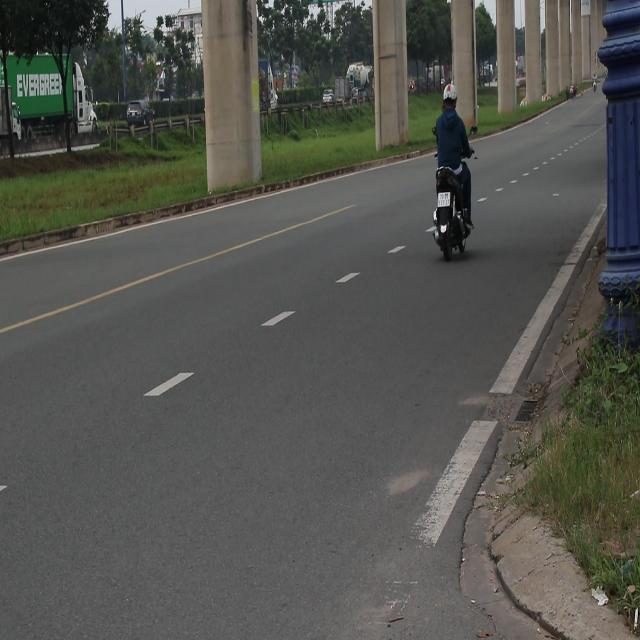car: (126, 102, 155, 131), (323, 90, 336, 107)
motorbike: (428, 163, 474, 265)
truck: (1, 51, 100, 165), (258, 49, 282, 118), (330, 72, 352, 110)
